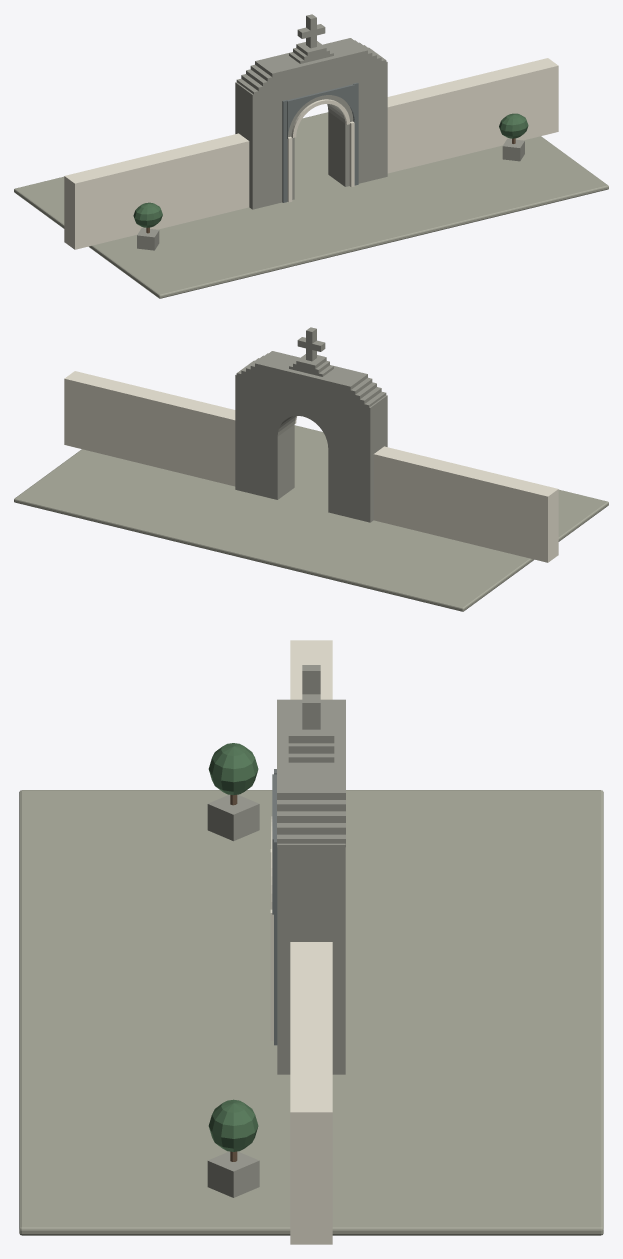
The model's file is gms-43.glb.
The picture shows the model from 3 angles, top to bottom: view 1: azimuth 30°, elevation 25°; view 2: azimuth 150°, elevation 25°; view 3: azimuth 270°, elevation 25°; orthographic projection. The views are drawn at different scales.
Parts seen in each view (by area): view 1: Context plinth, Long low white cemetery wall, Broad grey Art Deco portal pier, Dark grey central field side, Broadleaf canopy; view 2: Context plinth, Long low white cemetery wall, Broad grey Art Deco portal pier; view 3: Context plinth, Broad grey Art Deco portal pier, Long low white cemetery wall, Broadleaf canopy, Dark grey central field side.
Boxes of the visible parts, x1=… form: Context plinth: x1=14, y1=112, x2=608, y2=298; Long low white cemetery wall: x1=64, y1=58, x2=558, y2=249; Broad grey Art Deco portal pier: x1=137, y1=14, x2=524, y2=250; Dark grey central field side: x1=282, y1=82, x2=358, y2=202; Broadleaf canopy: x1=133, y1=113, x2=528, y2=227; Context plinth: x1=14, y1=425, x2=608, y2=611; Long low white cemetery wall: x1=64, y1=371, x2=558, y2=562; Broad grey Art Deco portal pier: x1=235, y1=327, x2=387, y2=522; Context plinth: x1=19, y1=790, x2=603, y2=1235; Broad grey Art Deco portal pier: x1=207, y1=665, x2=345, y2=1197; Long low white cemetery wall: x1=270, y1=640, x2=332, y2=1244; Broadleaf canopy: x1=208, y1=743, x2=258, y2=1151; Dark grey central field side: x1=272, y1=769, x2=277, y2=1045.
Size of the model in its own units: 17.2 by 5.93 by 9.
